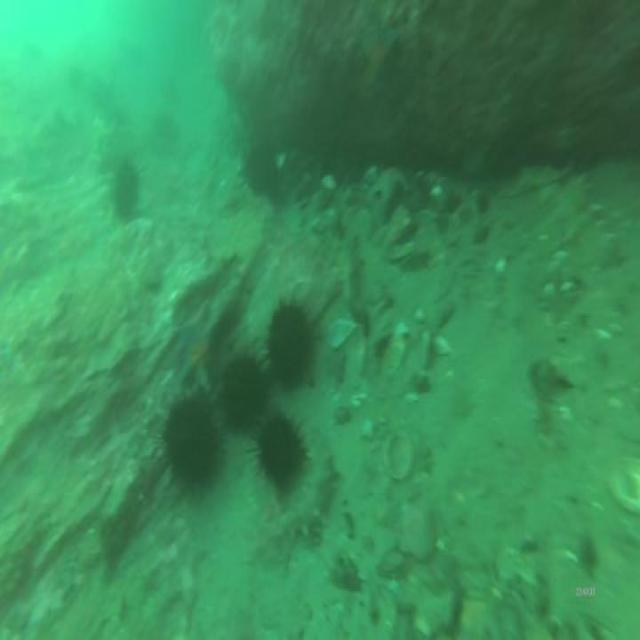echinus: (164, 387, 226, 503), (249, 409, 310, 504), (265, 293, 316, 402), (218, 352, 273, 437), (238, 139, 283, 202), (106, 153, 140, 223)
starfish: (173, 312, 220, 394)
